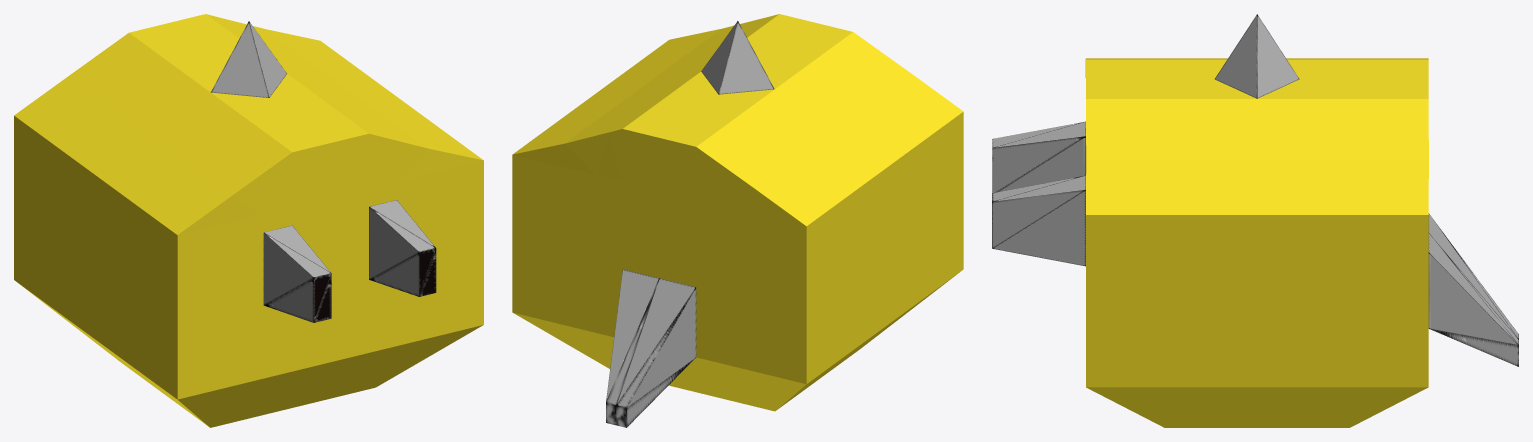
The model's file is YellowPlayer.obj.
3 views of the same model, side by side, from view 1: azimuth 30°, elevation 25°; view 2: azimuth 150°, elevation 25°; view 3: azimuth 270°, elevation 25° (orthographic). The views are drawn at different scales.
Parts seen in each view (by area): view 1: 体; view 2: 体; view 3: 体.
Boxes of the visible parts, x1,y1,x2,y2 form: 体: [14, 14, 483, 427]; 体: [512, 14, 963, 427]; 体: [992, 14, 1518, 427].
Bounding box in the file's own units: 0.8151 × 0.9013 × 1.16.
Materials: 1 (1 with a texture image).
